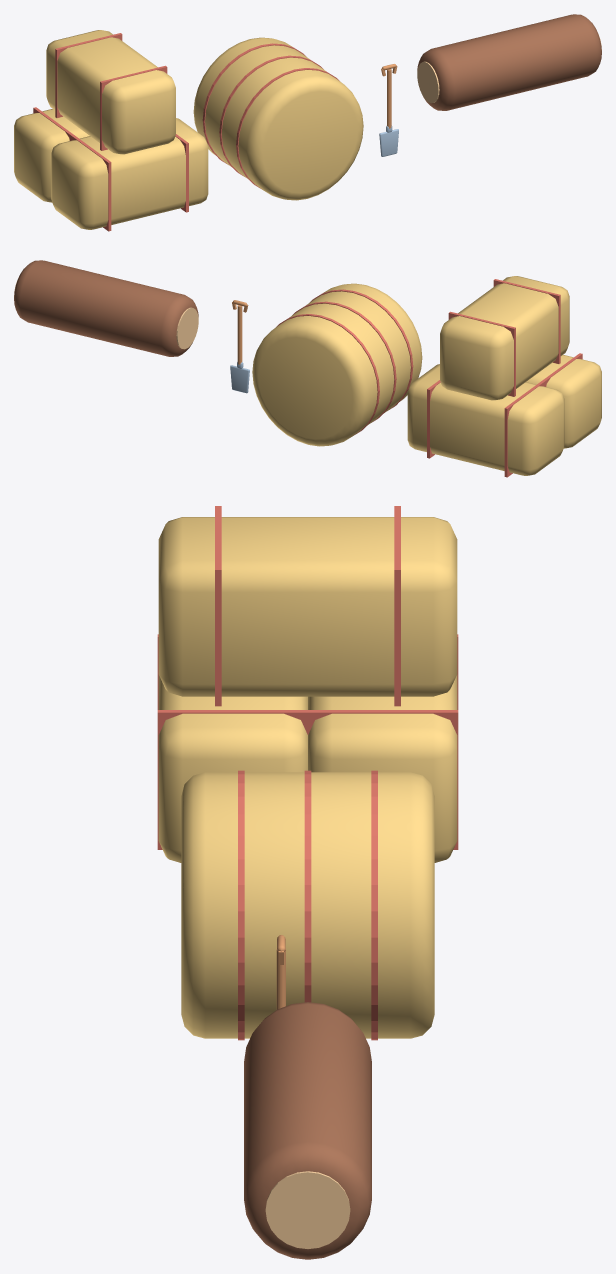
Rendered from lt2_soft.glb.
3 views of the same model, one above another, from view 1: azimuth 30°, elevation 25°; view 2: azimuth 150°, elevation 25°; view 3: azimuth 270°, elevation 25° (orthographic). The views are drawn at different scales.
Visible parts, largest first — view 1: RoundBale, SquareBale.002, SquareBale, Log, SquareBale.001, SmallShovel; view 2: RoundBale, SquareBale.002, SquareBale.001, Log, SquareBale, SmallShovel; view 3: RoundBale, SquareBale.002, Log, SquareBale, SquareBale.001.
Part boxes in pixels (x1=…): RoundBale: x1=193, y1=37, x2=363, y2=200; SquareBale.002: x1=46, y1=30, x2=175, y2=154; SquareBale: x1=51, y1=118, x2=208, y2=231; Log: x1=417, y1=14, x2=601, y2=110; SquareBale.001: x1=14, y1=107, x2=89, y2=202; SmallShovel: x1=379, y1=64, x2=398, y2=156; RoundBale: x1=252, y1=283, x2=422, y2=446; SquareBale.002: x1=440, y1=276, x2=569, y2=400; SquareBale.001: x1=407, y1=364, x2=564, y2=477; Log: x1=14, y1=260, x2=198, y2=356; SquareBale: x1=526, y1=353, x2=601, y2=448; SmallShovel: x1=230, y1=300, x2=249, y2=393; RoundBale: x1=181, y1=770, x2=434, y2=1040; SquareBale.002: x1=158, y1=506, x2=457, y2=706; Log: x1=244, y1=1002, x2=371, y2=1259; SquareBale: x1=157, y1=634, x2=308, y2=862; SquareBale.001: x1=307, y1=634, x2=458, y2=862.
Size of the model in its own units: 4.72 by 1.35 by 1.13.
